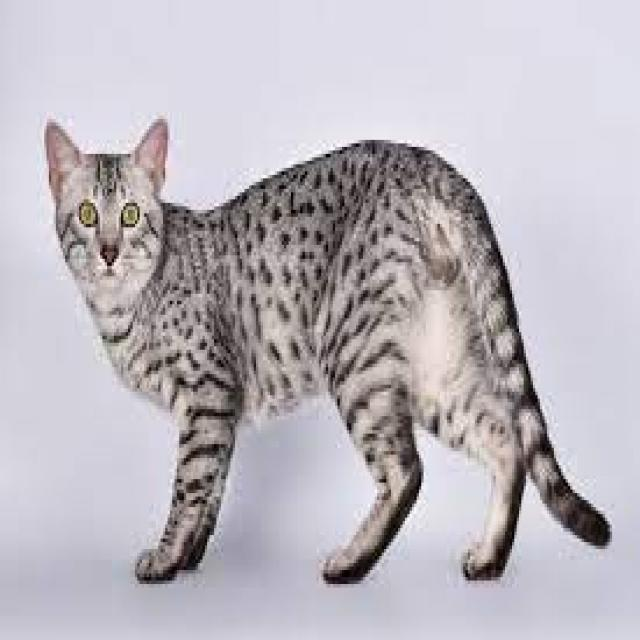Cat: (39, 110, 615, 593)
